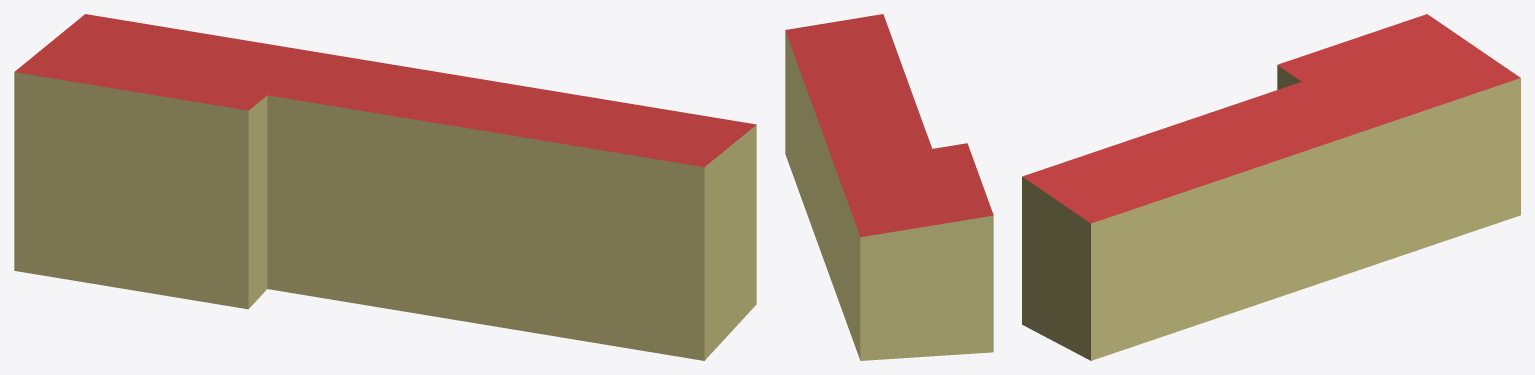
3 views of the same model, side by side, from view 1: azimuth 30°, elevation 25°; view 2: azimuth 150°, elevation 25°; view 3: azimuth 270°, elevation 25° (orthographic). The views are drawn at different scales.
Parts seen in each view (by area): view 1: group_4, group_3; view 2: group_4, group_3; view 3: group_4, group_3.
Boxes of the visible parts, <box> form: group_4: <box>14,72,756,360</box>; group_3: <box>14,14,756,167</box>; group_4: <box>785,31,993,360</box>; group_3: <box>785,14,993,237</box>; group_4: <box>1022,65,1520,360</box>; group_3: <box>1022,14,1520,223</box>.
Bounding box in the file's own units: 13.6 × 14.7 × 4.94.
